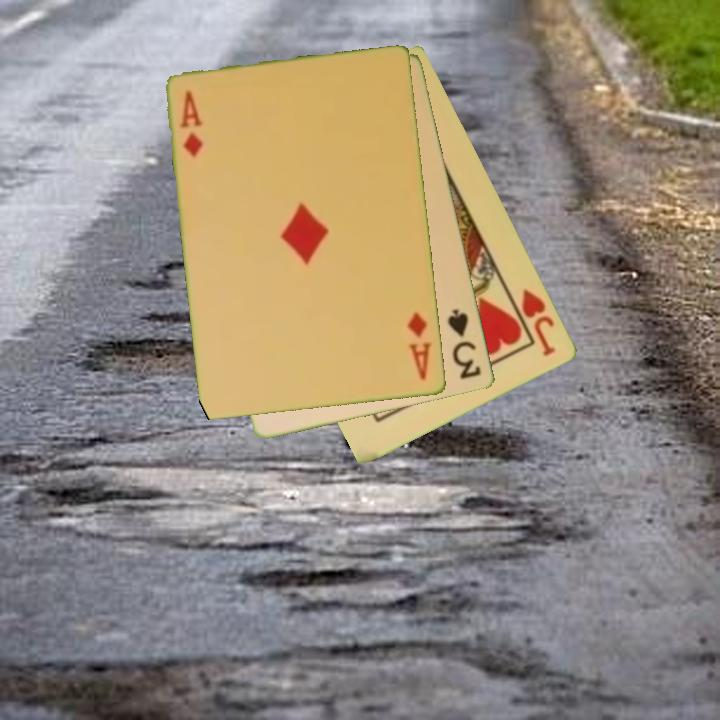3s: (444, 305, 484, 383)
Ad: (404, 309, 435, 384), (177, 87, 206, 161)
Jh: (518, 285, 559, 360)
